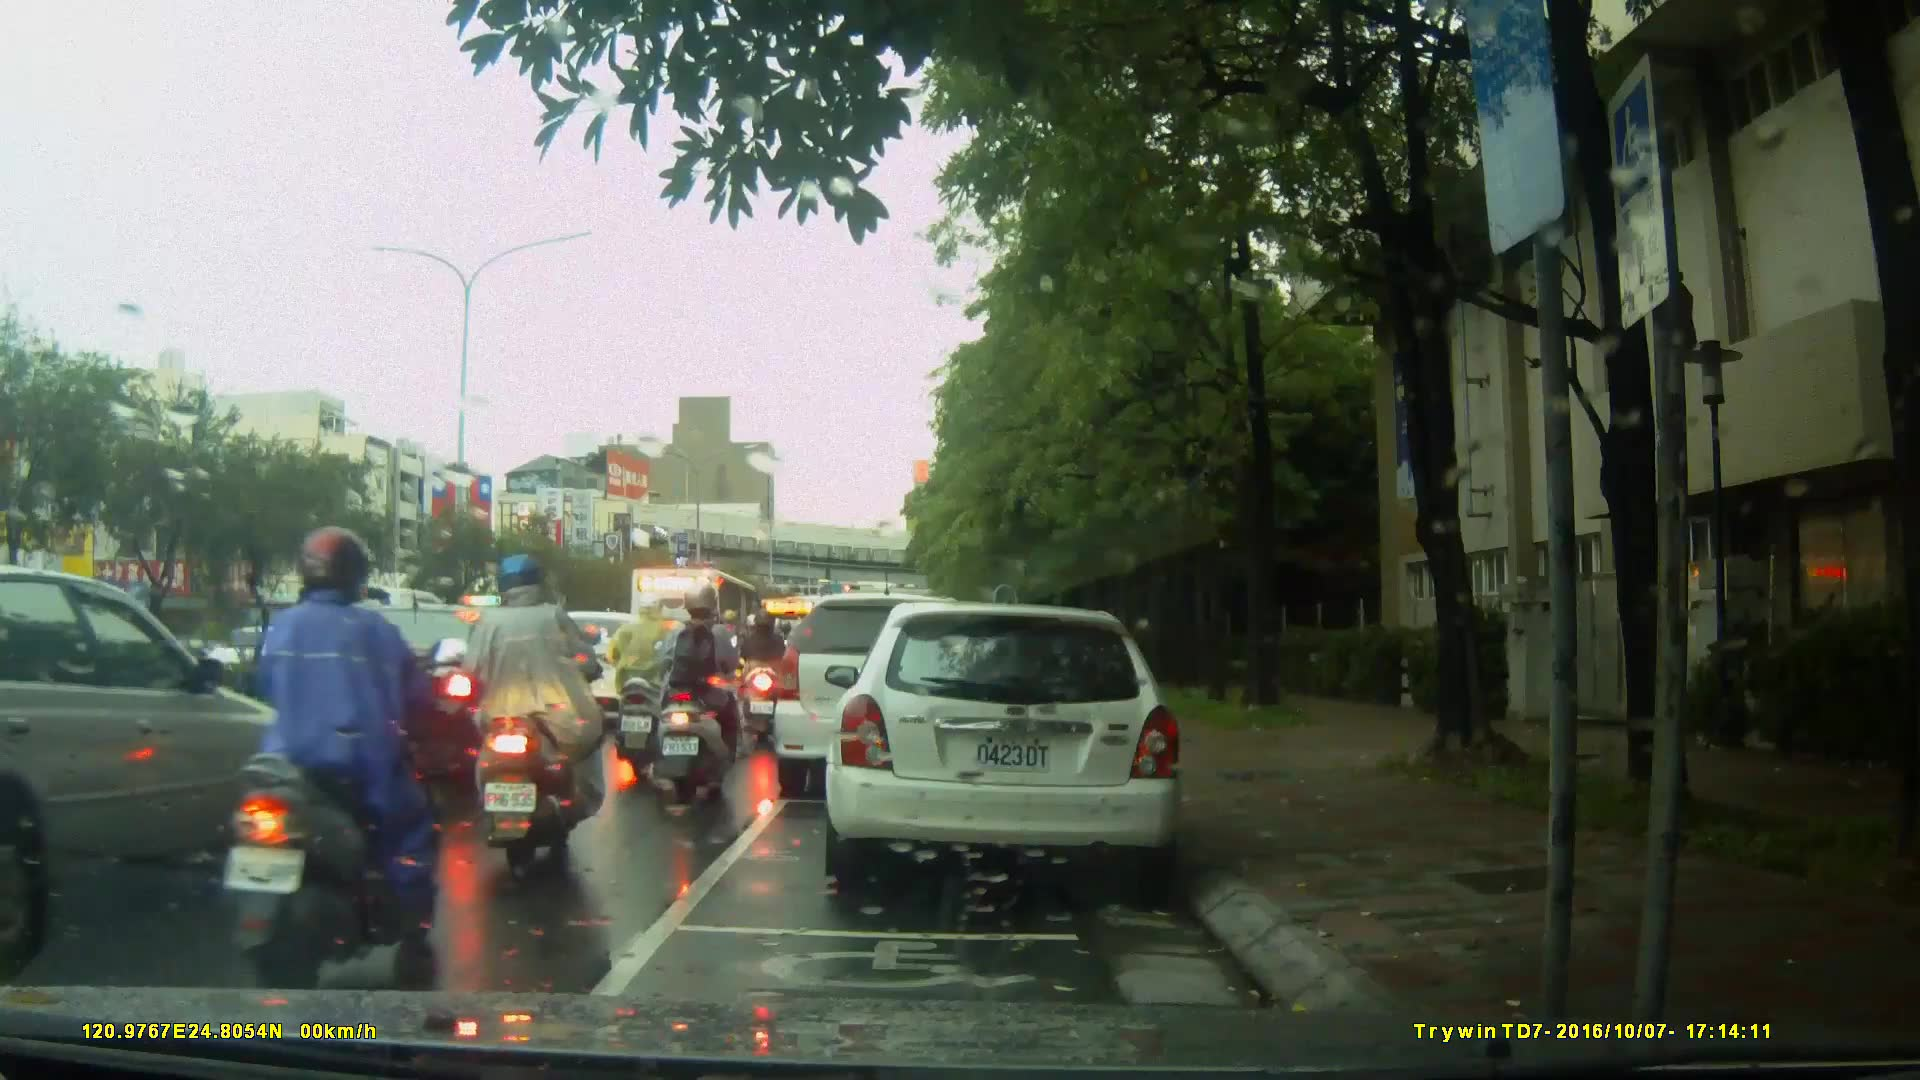rider: (213, 521, 430, 969), (459, 549, 596, 873), (654, 586, 741, 806), (611, 601, 683, 773), (737, 612, 793, 744)
vehicle: (831, 592, 1196, 897), (6, 566, 289, 935), (768, 592, 999, 802), (295, 604, 538, 777), (625, 566, 764, 700), (505, 609, 646, 723)
